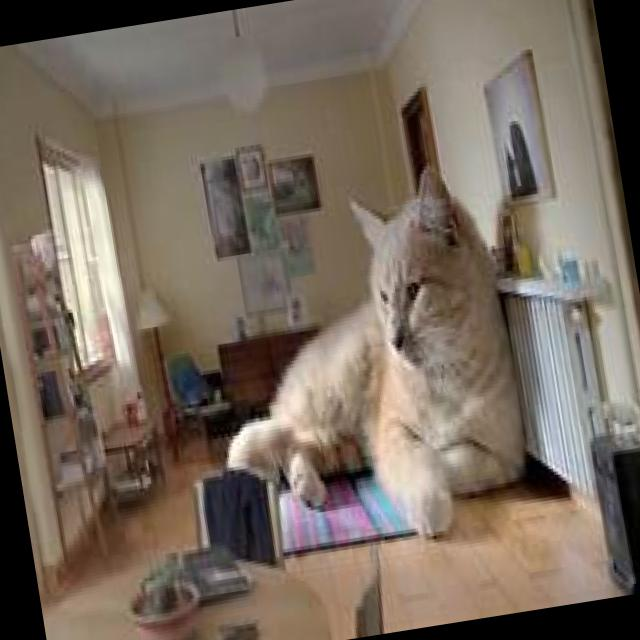animal: (185, 150, 540, 566)
